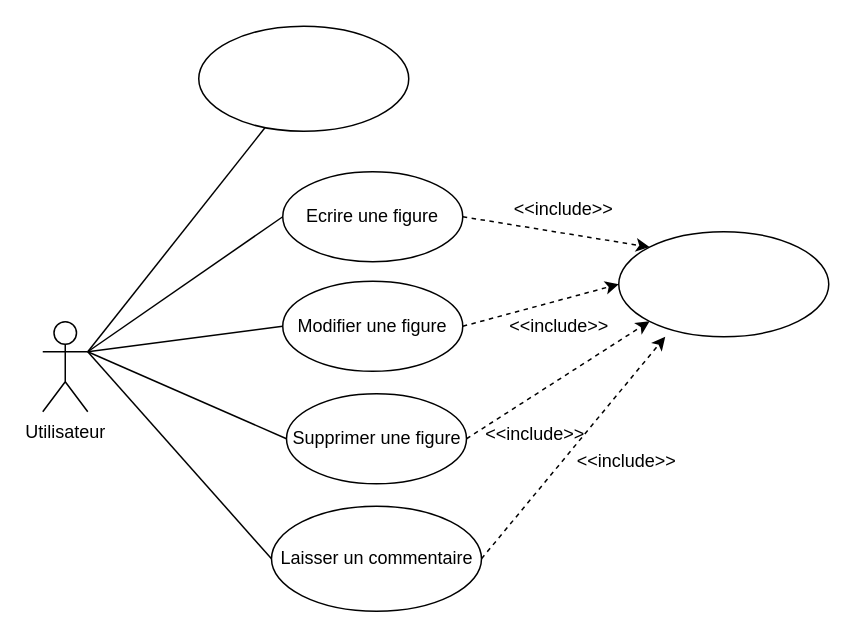
This 855x638 diagram has some shape labels left out. Each missing label, with the centre of its shape:
"Consulter le site" goes at point 303,78.
"S'authentifier" goes at point 723,283.
